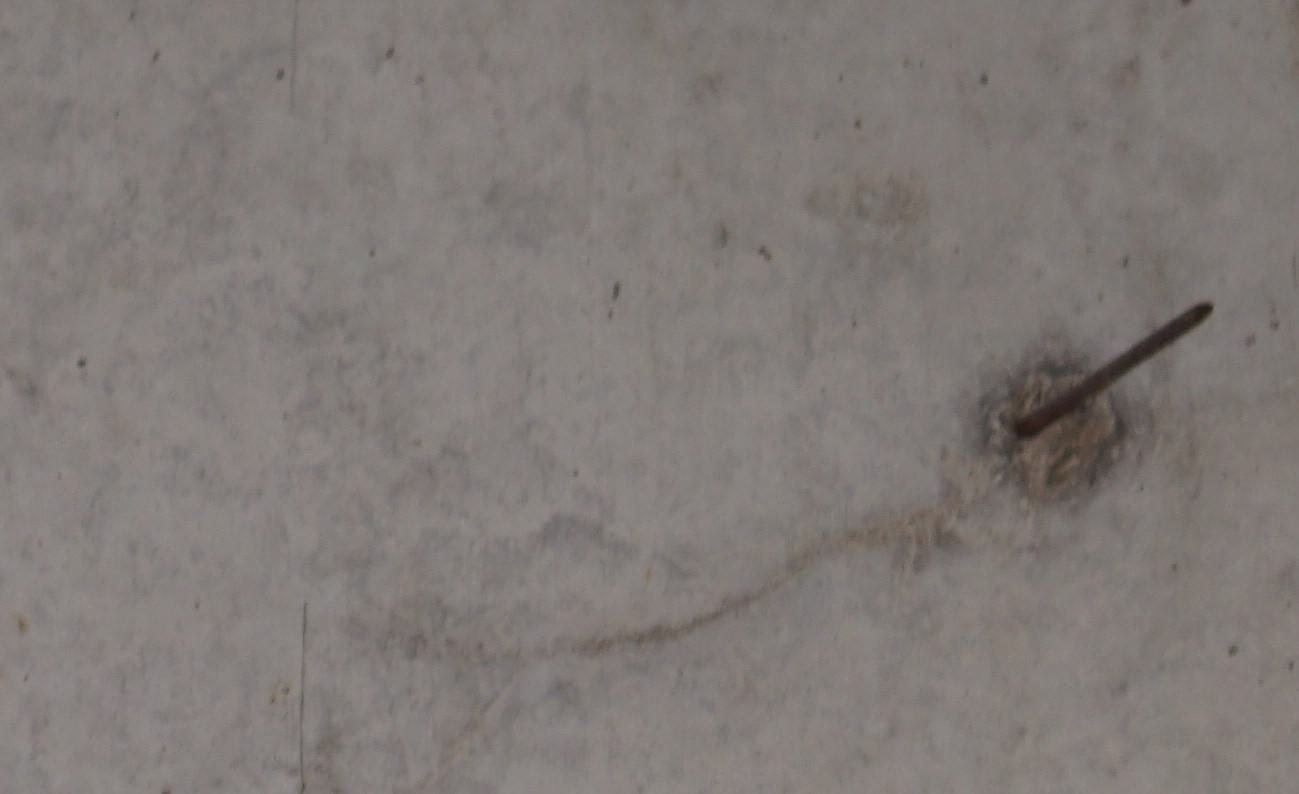Exposed reinforcement: (1013, 298, 1215, 442)
Spalling: (976, 360, 1129, 500)
